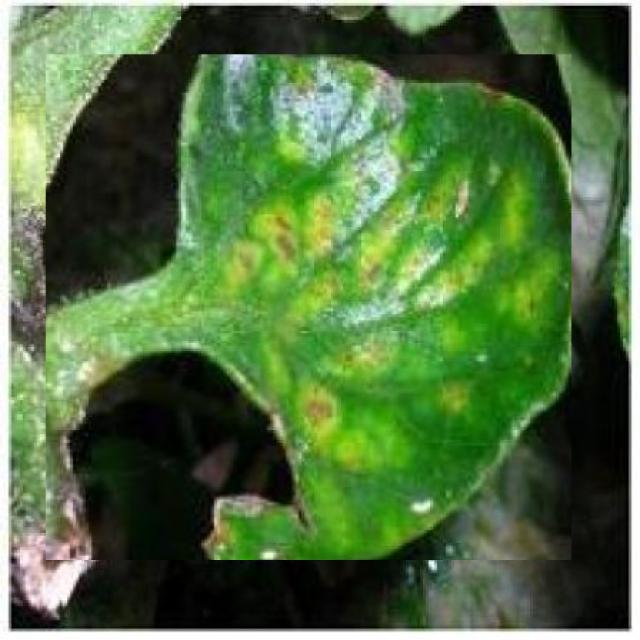Late Blight: (47, 55, 572, 561)
